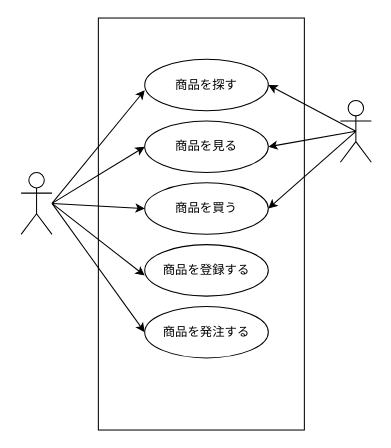
Some shapes in this 391 by 448 pixel diagram are drawn without their labels. Here are the shapes that lost their labels. From the top down, the centre of each, then its label:
At pixel 355 130: "購入者".
At pixel 36 202: "管理者".
